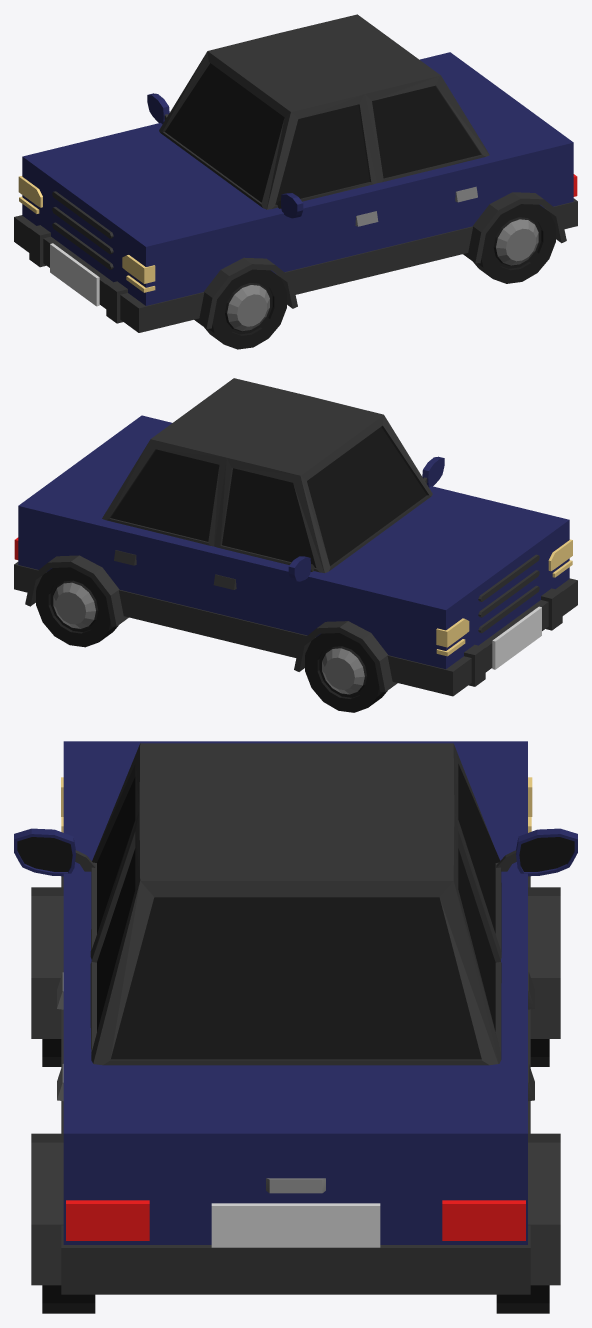
Rendered from SM_car_town_01.fbx.
3 renders of one model, top to bottom at view 1: azimuth 30°, elevation 25°; view 2: azimuth 150°, elevation 25°; view 3: azimuth 270°, elevation 25°, orthographic. The views are drawn at different scales.
Parts seen in each view (by area): view 1: Box077; view 2: Box077; view 3: Box077.
Boxes of the visible parts, x1=… form: Box077: x1=14, y1=14, x2=577, y2=349; Box077: x1=14, y1=378, x2=577, y2=712; Box077: x1=14, y1=741, x2=577, y2=1313.
Size of the model in its own units: 141 by 61.35 by 82.97.
